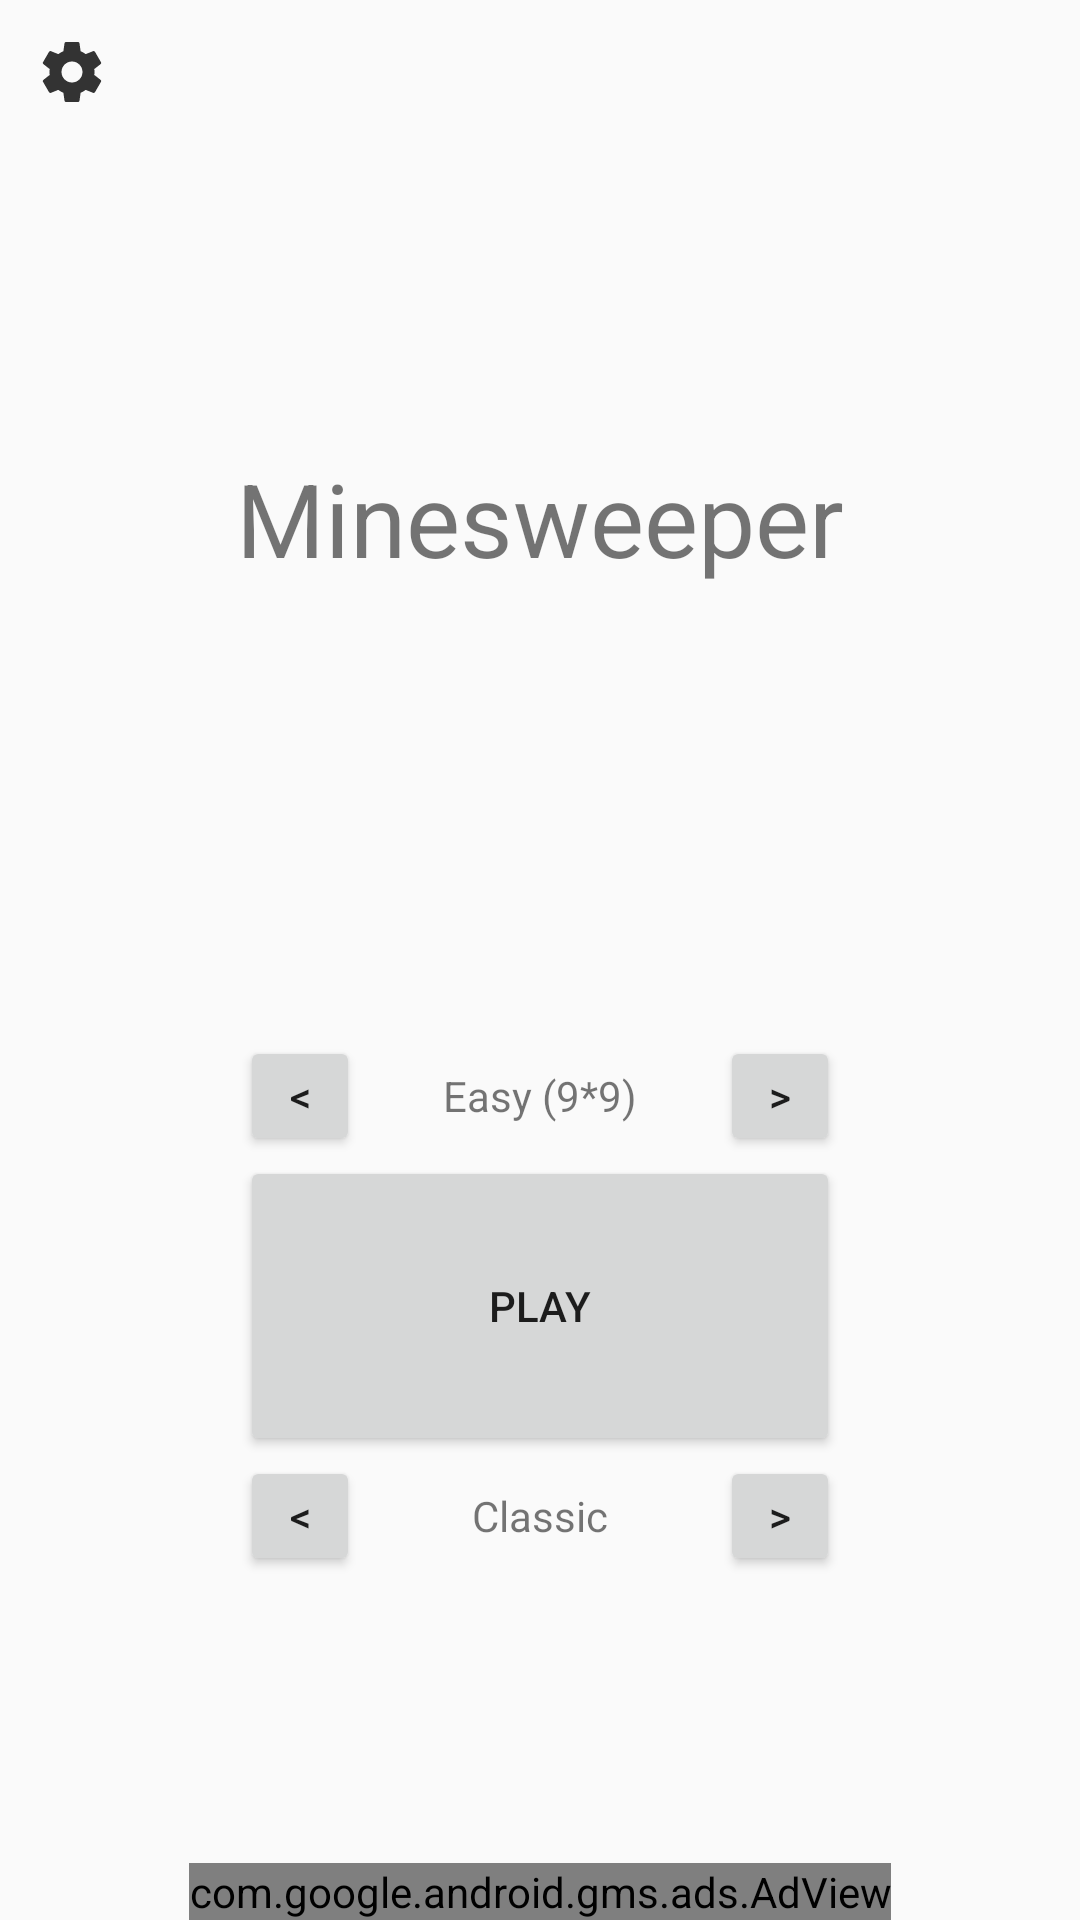

Named icons in this screenshot (1080px x 1920px) and their centers, (x=x, y=y):
Settings: (x=71, y=72)
